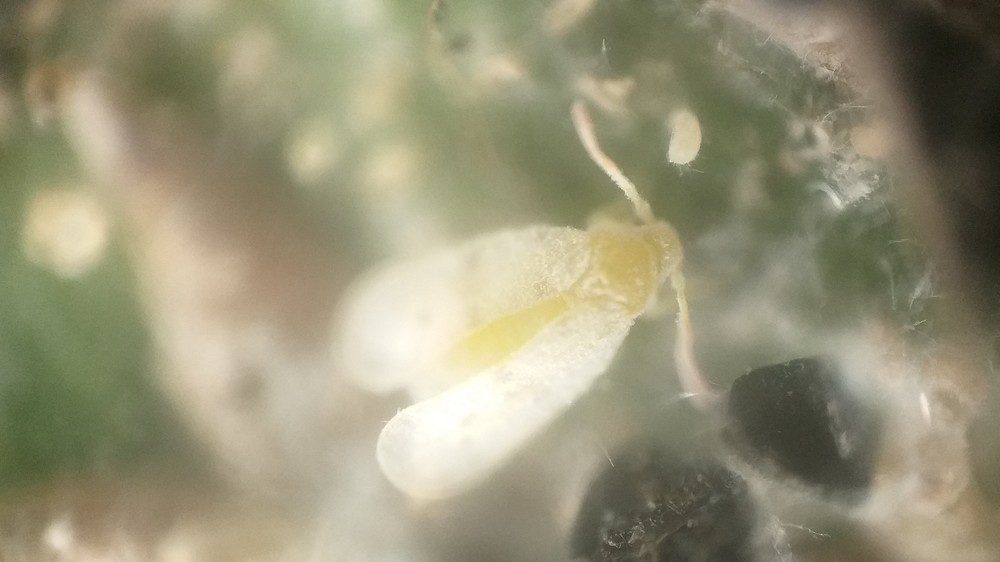Mosca Blanca: (322, 101, 739, 519)
